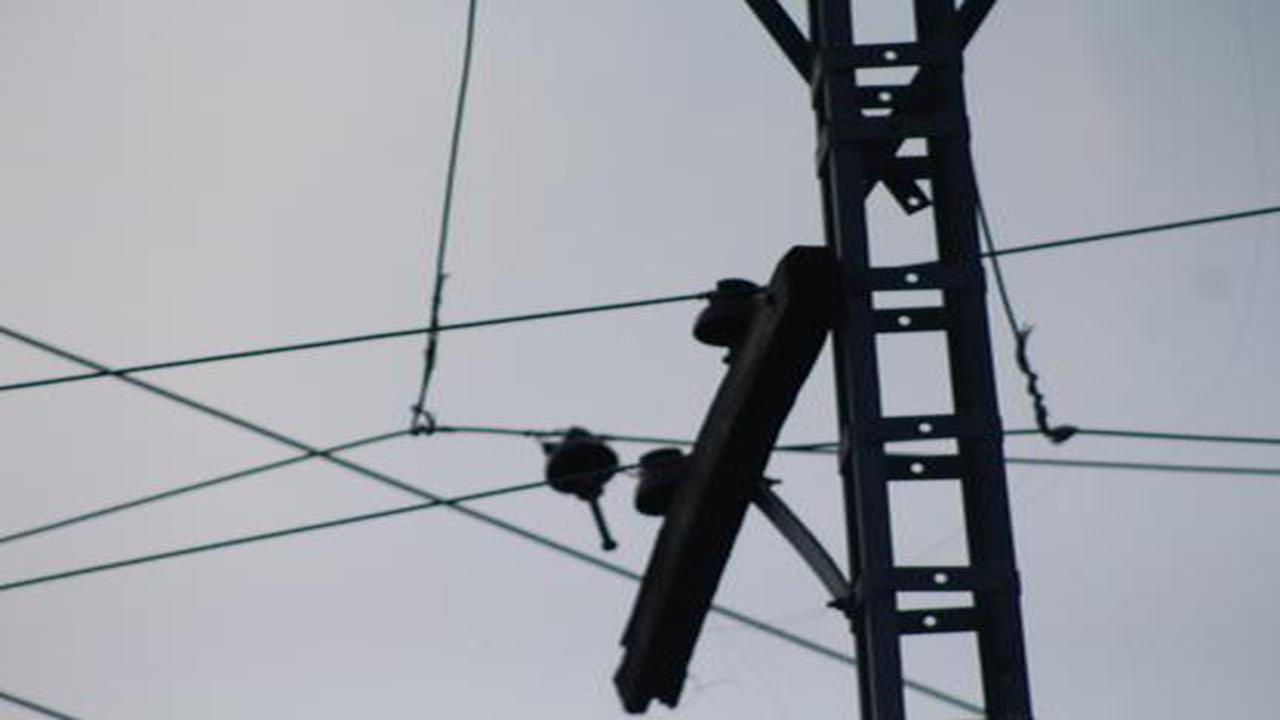insulator_pin: (530, 421, 623, 498), (687, 277, 767, 349), (629, 446, 695, 515)
